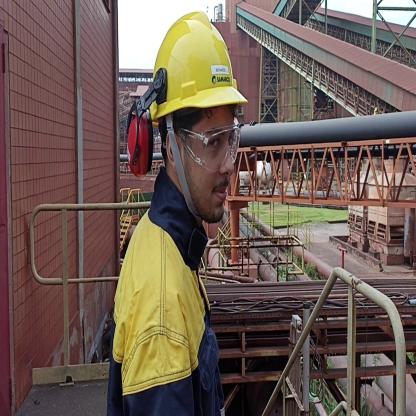C_eletrica: (106, 219, 232, 416)
Capacete: (139, 7, 244, 108)
